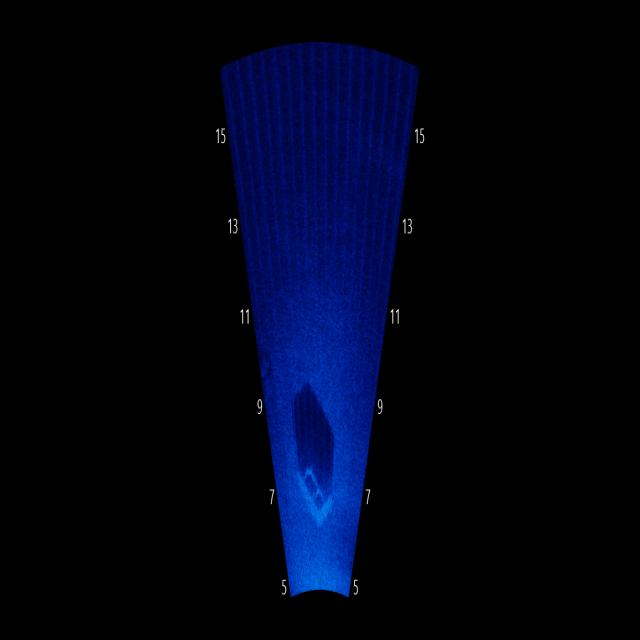square: (294, 455, 333, 532)
